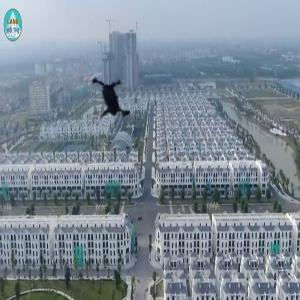drone: (71, 64, 147, 140)
